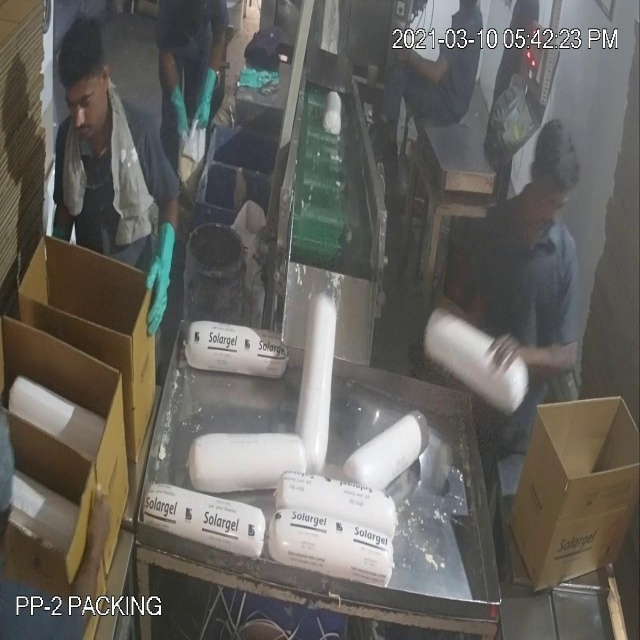Guantes: (143, 202, 180, 345)
Sin_guantes: (492, 323, 590, 407), (397, 43, 457, 92)
